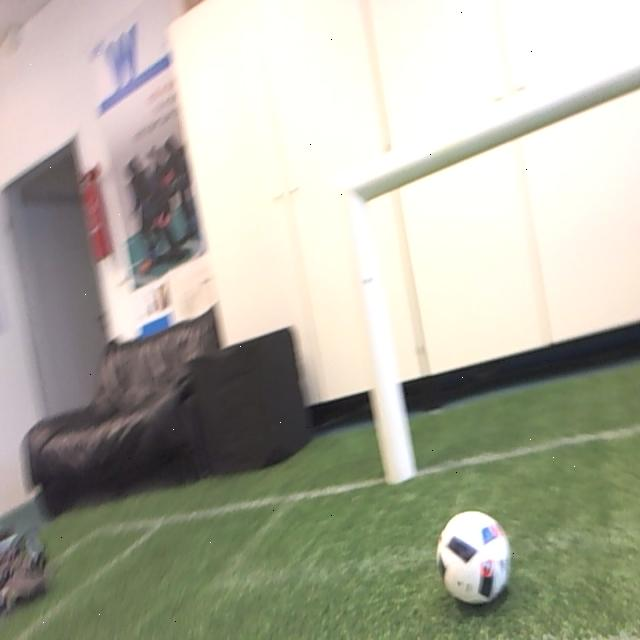ball: (437, 510, 510, 607)
goalpost: (338, 185, 413, 482)
